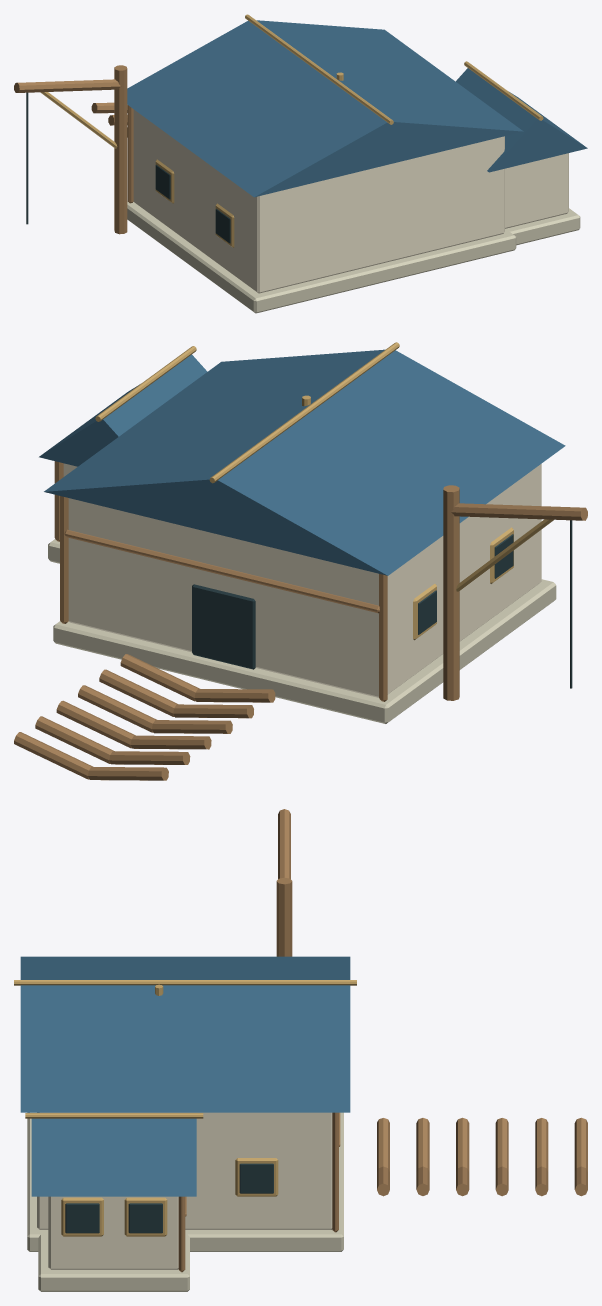
File: level_10.glb
3 renders of one model, top to bottom at view 1: azimuth 30°, elevation 25°; view 2: azimuth 150°, elevation 25°; view 3: azimuth 270°, elevation 25°, orthographic. The views are drawn at different scales.
Parts seen in each view (by area): view 1: shipyard — level 10; view 2: shipyard — level 10; view 3: shipyard — level 10.
Boxes of the visible parts, bbox=[...] form: shipyard — level 10: bbox=[14, 14, 587, 313]; shipyard — level 10: bbox=[14, 342, 587, 780]; shipyard — level 10: bbox=[14, 809, 587, 1291].
Size of the model in its own units: 9.65 by 3.66 by 8.7.
